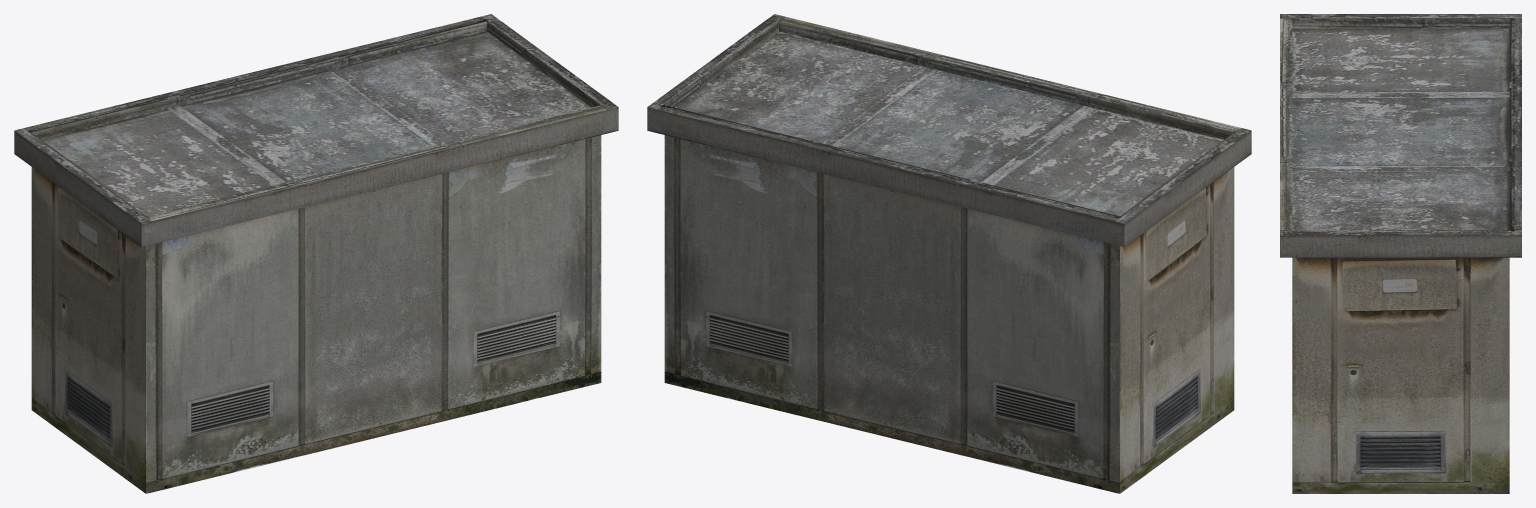
File: Electric_box_v3.glb
3 views of the same model, side by side, from view 1: azimuth 30°, elevation 25°; view 2: azimuth 150°, elevation 25°; view 3: azimuth 270°, elevation 25° (orthographic). The views are drawn at different scales.
Visible parts, largest first — view 1: Electric_box_v3; view 2: Electric_box_v3; view 3: Electric_box_v3.
Boxes of the visible parts, x1,y1,x2,y2 form: Electric_box_v3: [14, 14, 618, 493]; Electric_box_v3: [647, 14, 1251, 493]; Electric_box_v3: [1280, 14, 1521, 493].
Size of the model in its own units: 3.84 by 2.14 by 1.78.
Materials: 1 (1 with a texture image).
